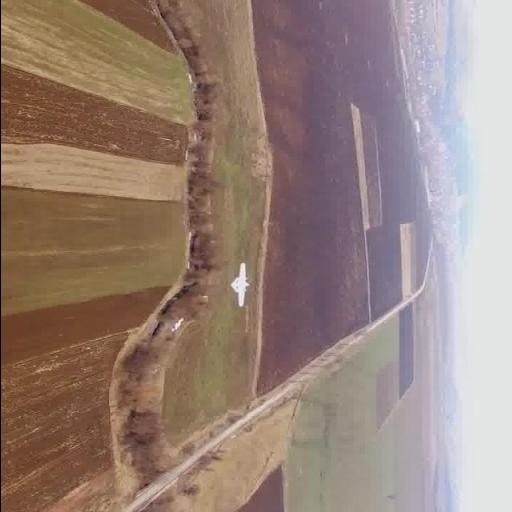uav: (222, 258, 255, 312)
